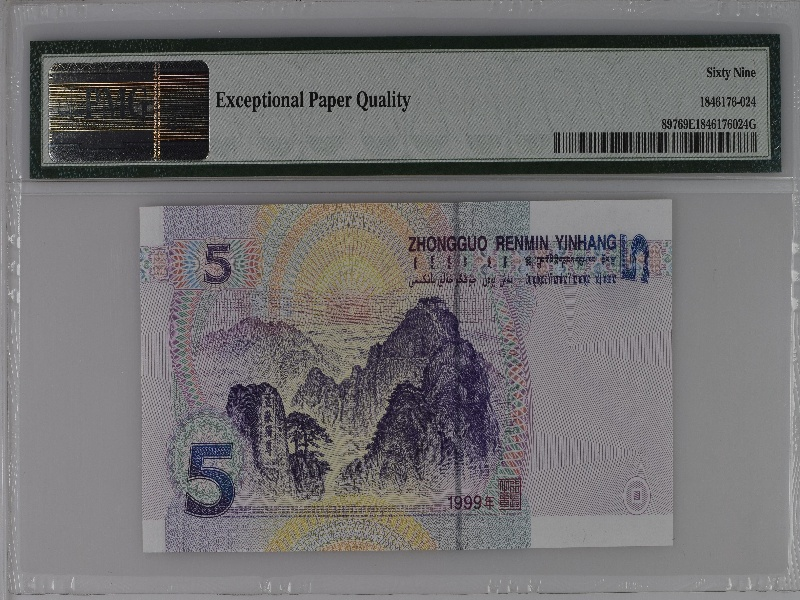papernote: (136, 202, 677, 550)
